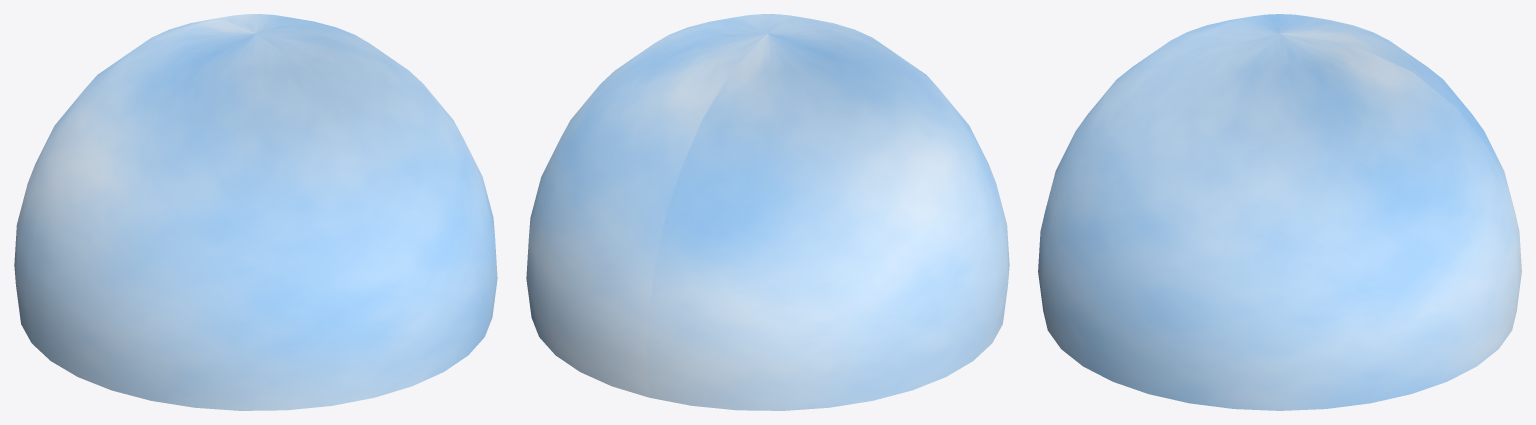
File: TitleSkyDome.FBX
3 views of the same model, side by side, from view 1: azimuth 30°, elevation 25°; view 2: azimuth 150°, elevation 25°; view 3: azimuth 270°, elevation 25° (orthographic).
Visible parts, largest first — view 1: Sphere001; view 2: Sphere001; view 3: Sphere001.
Boxes of the visible parts, box(x1,y1,x2,y2) form: Sphere001: box(14, 14, 497, 410); Sphere001: box(526, 14, 1009, 410); Sphere001: box(1038, 14, 1521, 410).
Size of the model in its own units: 2458 by 1554 by 2458.
1 material, 1 textured.
